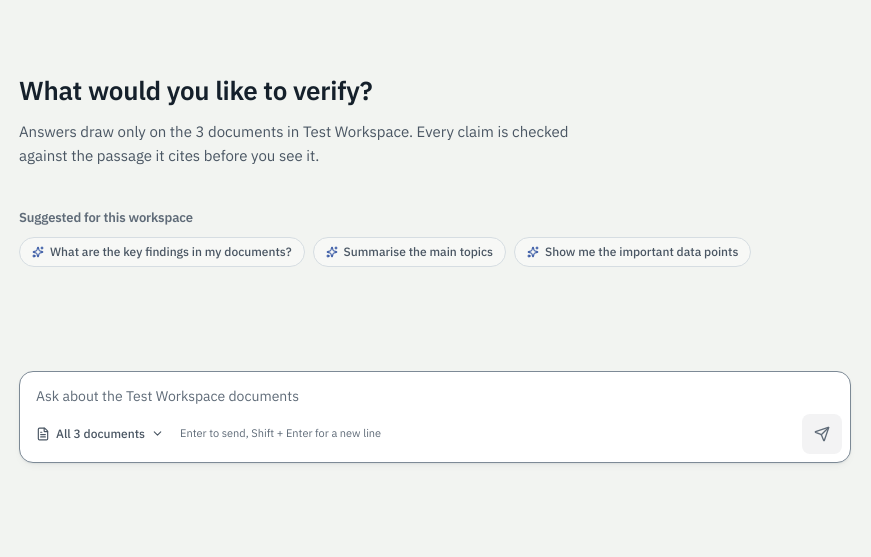
Test: ChatPage › "Read as prose" switches off the ledger and shows the claim inline with a verdict icon
The image size is (871, 557).
Type "Summarise revenue" into the text box named "Ask a question about this workspace" at coordinates (435, 391), box [20,372,850,410]
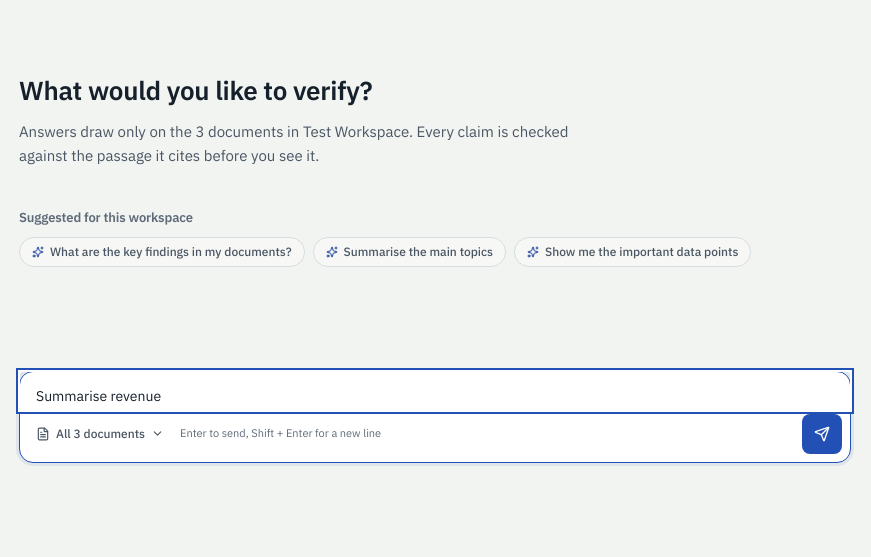
Press Enter
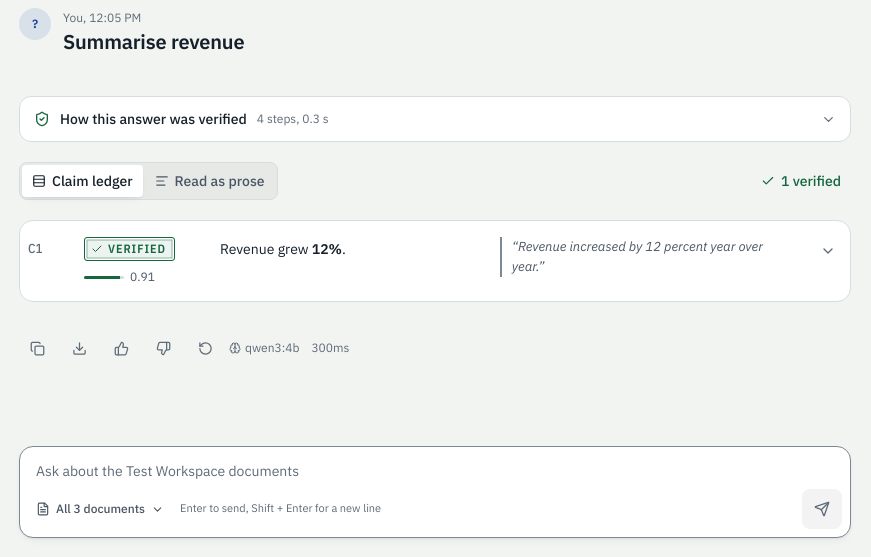
Now the text "C1" is shown, box [28,240,42,257]
Click the button "Read as prose" at coordinates (210, 181), box [144,165,275,197]
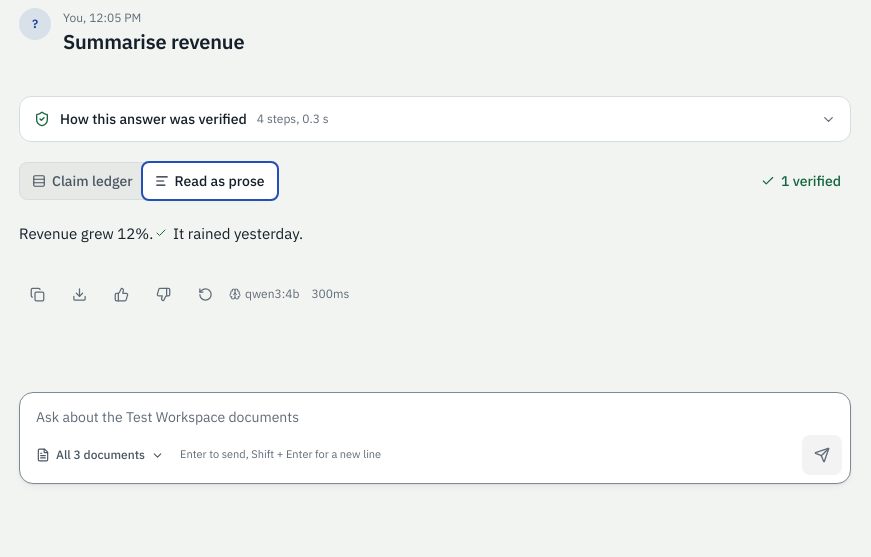
Now the text "C1" is gone
Now the text "Revenue grew 12%. It rained yesterday." is shown, box [19,223,303,243]
